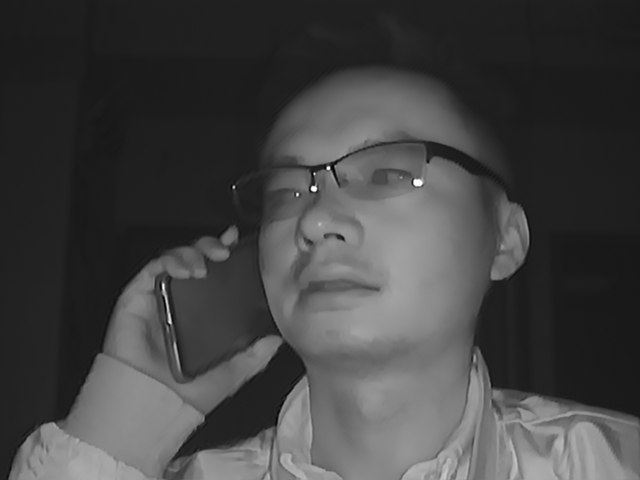hand: (115, 216, 254, 404)
